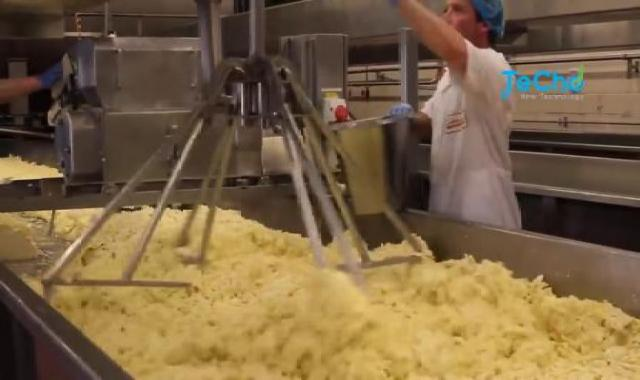hairnet: (446, 0, 514, 45)
